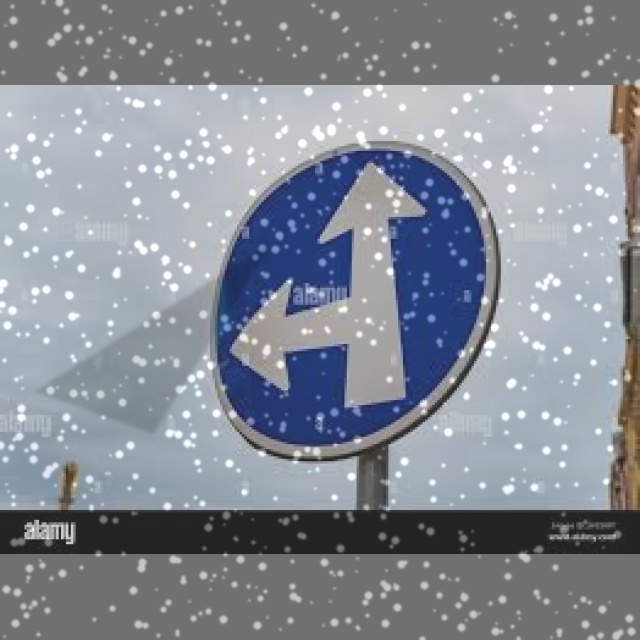Compulsory_Ahead_or_Turn_Left: (219, 144, 496, 453)
